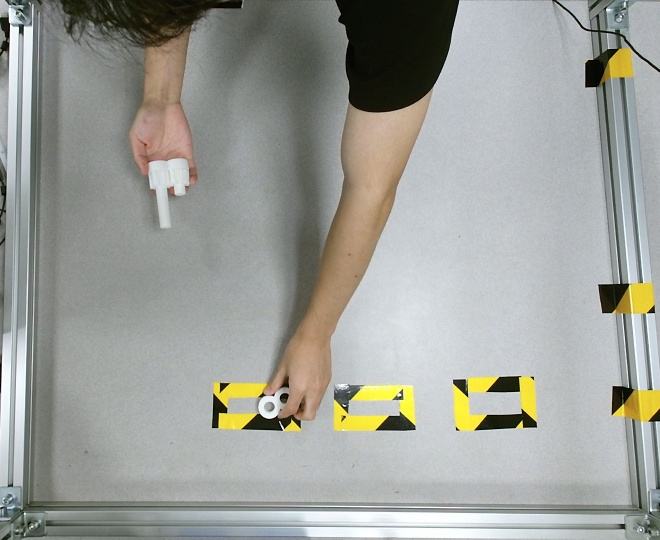stage_3: (146, 157, 189, 230)
